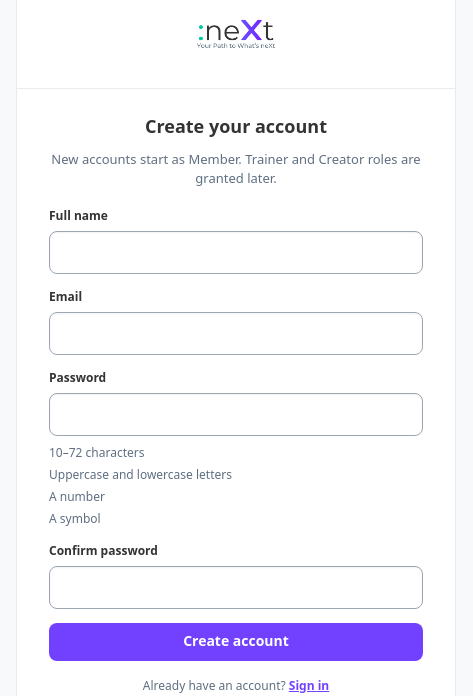
it: Account registration › shows the exact password rule that failed and clears it after editing
Type "New Learner" into the field labelled "Full name".
click(236, 252); type("New Learner")  # box [49,230,423,274]
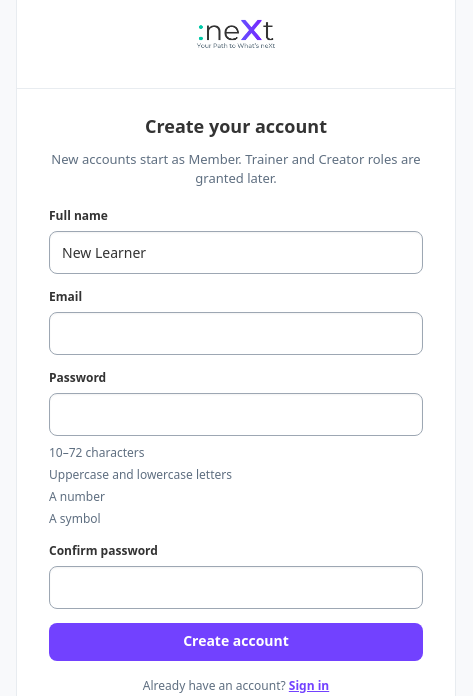
Type "learner@example.test" into the field labelled "Email".
click(236, 333); type("learner@example.test")  # box [49,312,423,354]
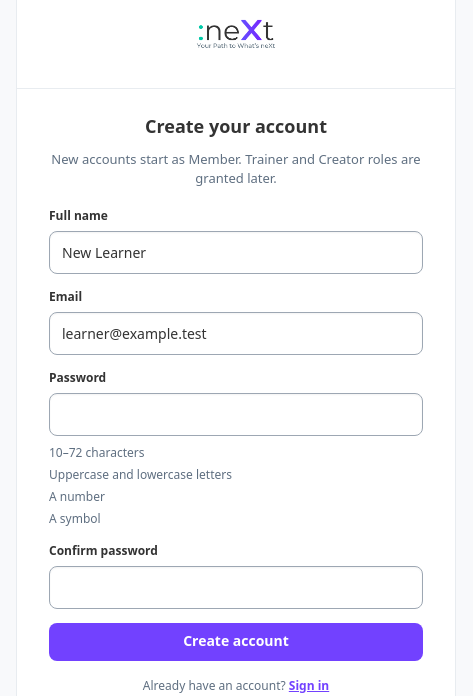
Type "weak" into the password field labelled "Password".
click(236, 414); type("weak")  # box [49,392,423,436]
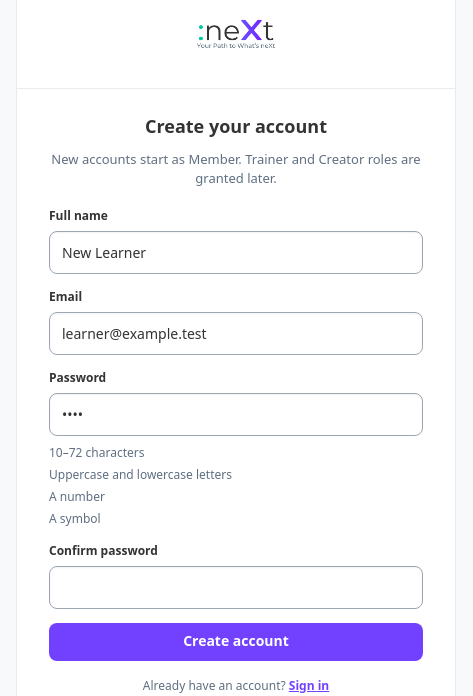
Type "weak" into the password field labelled "Confirm password".
click(236, 587); type("weak")  # box [49,566,423,608]
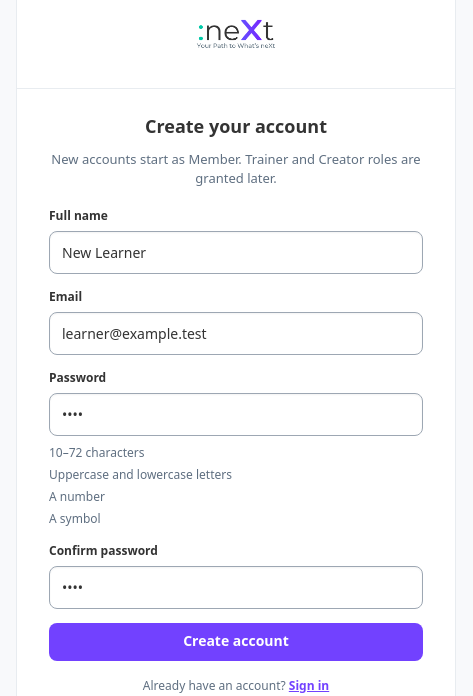
Click the button "Create account".
click(236, 642)  # box [49,622,423,660]
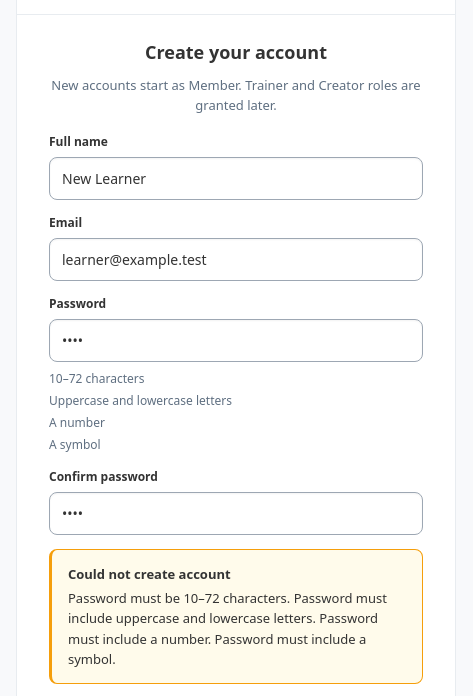
Expected: the text "Password must be 10–72 characters" is shown, [68,589,387,668]
Type "StrongPass123!" into the password field labelled "Password".
click(236, 341); type("StrongPass123!")  # box [49,319,423,362]
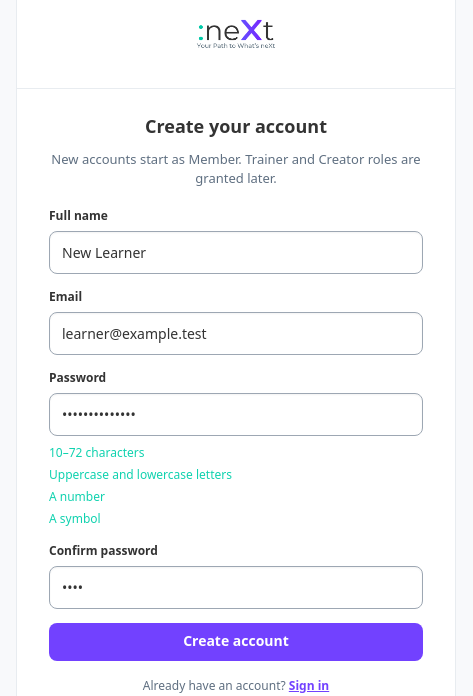
Expected: the text "Password must be 10–72 characters" is gone
